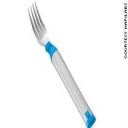fork: (22, 2, 98, 126)
